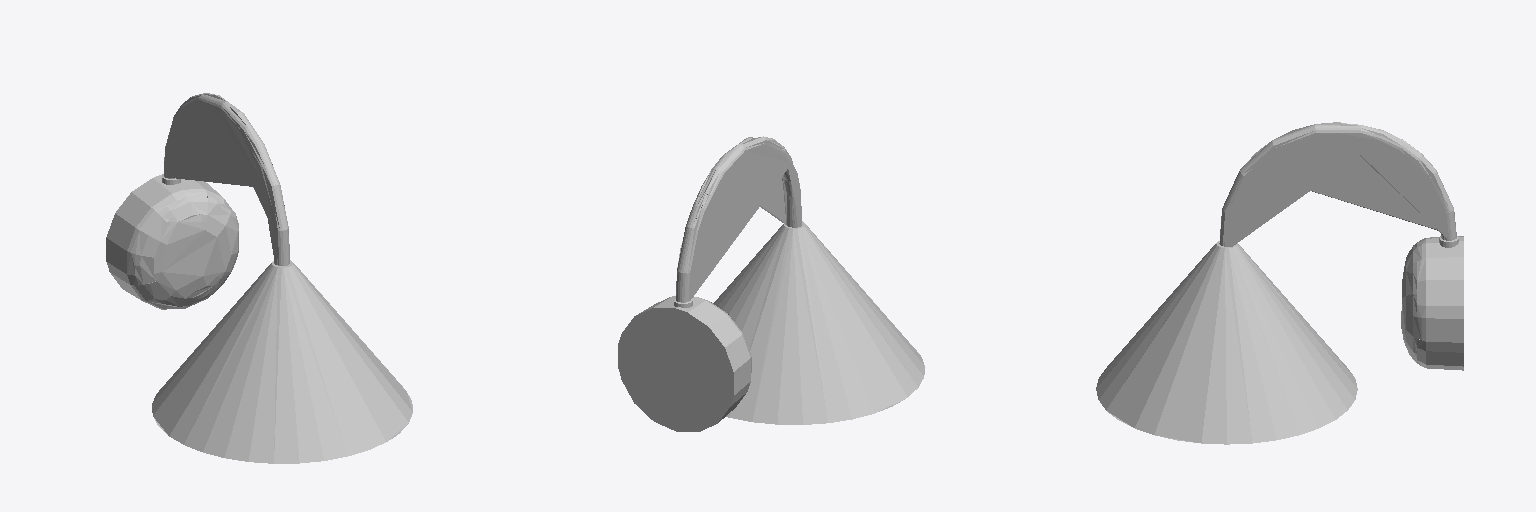
The model's file is wall_lamp.obj.
3 views of the same model, side by side, from view 1: azimuth 30°, elevation 25°; view 2: azimuth 150°, elevation 25°; view 3: azimuth 270°, elevation 25° (orthographic).
Parts seen in each view (by area): view 1: lamp_Cylinder.004; view 2: lamp_Cylinder.004; view 3: lamp_Cylinder.004.
Boxes of the visible parts, box(x1,y1,x2,y2) form: lamp_Cylinder.004: box(106, 93, 412, 463); lamp_Cylinder.004: box(618, 136, 924, 431); lamp_Cylinder.004: box(1096, 122, 1463, 444).
Bounding box in the file's own units: 0.1957 × 0.2198 × 0.2749.